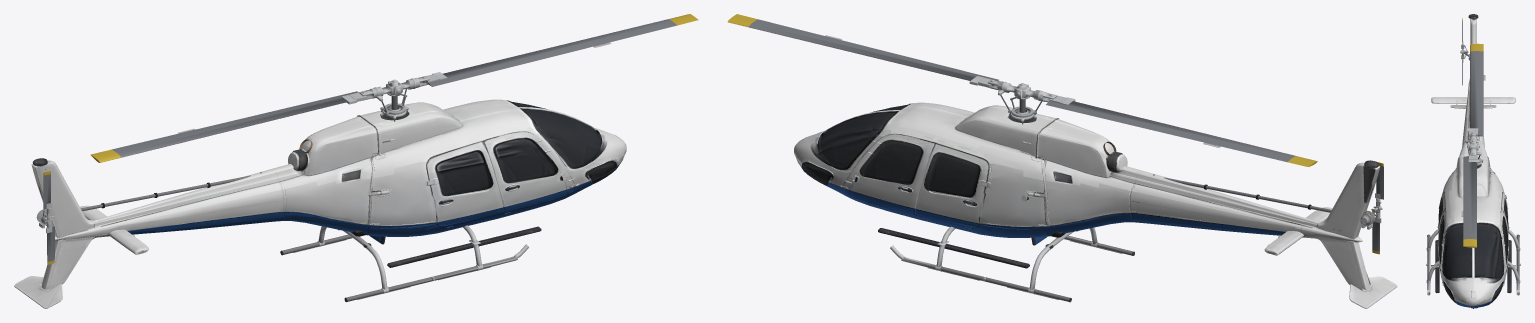
3 renders of one model, left to right at view 1: azimuth 30°, elevation 25°; view 2: azimuth 150°, elevation 25°; view 3: azimuth 270°, elevation 25°, orthographic. The views are drawn at different scales.
Visible parts, largest first — view 1: fuselage, tail_boom, tail_fins, rear_door_r, door_r, engine_cowling, transmission_cowling, canopy, blade_1, blade_2, skids, rotor_hub (+2 smaller); view 2: fuselage, tail_boom, tail_fins, rear_door_l, door_l, engine_cowling, transmission_cowling, canopy, blade_2, blade_1, skids, rotor_hub (+1 smaller); view 3: fuselage, canopy, blade_2, blade_1, tail_fins, transmission_cowling, skids, door_l, door_r, tail_boom, engine_cowling, rotor_hub (+6 smaller).
Part boxes in pixels (left/top/right/bottom): fuselage: left=281, top=99, right=626, bottom=267; tail_boom: left=91, top=164, right=304, bottom=238; tail_fins: left=14, top=158, right=148, bottom=308; rear_door_r: left=426, top=141, right=503, bottom=225; door_r: left=497, top=126, right=570, bottom=211; engine_cowling: left=288, top=115, right=385, bottom=183; transmission_cowling: left=361, top=102, right=463, bottom=153; canopy: left=511, top=101, right=600, bottom=168; blade_1: left=428, top=19, right=677, bottom=86; blade_2: left=112, top=91, right=358, bottom=157; skids: left=282, top=225, right=528, bottom=301; rotor_hub: left=359, top=76, right=429, bottom=101; fuselage: left=794, top=102, right=1133, bottom=268; tail_boom: left=1111, top=166, right=1320, bottom=239; tail_fins: left=1264, top=160, right=1397, bottom=308; rear_door_l: left=915, top=143, right=990, bottom=226; door_l: left=849, top=130, right=924, bottom=215; engine_cowling: left=1031, top=118, right=1127, bottom=184; transmission_cowling: left=955, top=105, right=1055, bottom=156; canopy: left=819, top=104, right=907, bottom=170; blade_2: left=1046, top=101, right=1295, bottom=161; blade_1: left=748, top=19, right=998, bottom=80; skids: left=890, top=226, right=1132, bottom=301; rotor_hub: left=987, top=79, right=1057, bottom=102; fuselage: left=1435, top=168, right=1511, bottom=308; canopy: left=1443, top=224, right=1503, bottom=277; blade_2: left=1470, top=51, right=1483, bottom=136; blade_1: left=1463, top=156, right=1476, bottom=239; tail_fins: left=1431, top=14, right=1515, bottom=108; transmission_cowling: left=1456, top=155, right=1490, bottom=197; skids: left=1426, top=229, right=1520, bottom=295; door_l: left=1497, top=215, right=1509, bottom=274; door_r: left=1437, top=215, right=1449, bottom=275; tail_boom: left=1462, top=90, right=1484, bottom=147; engine_cowling: left=1451, top=140, right=1495, bottom=174; rotor_hub: left=1465, top=132, right=1481, bottom=155.
Bounding box in the file's own units: 11.93 × 3.2 × 2.12.
16 materials, 2 textured.
